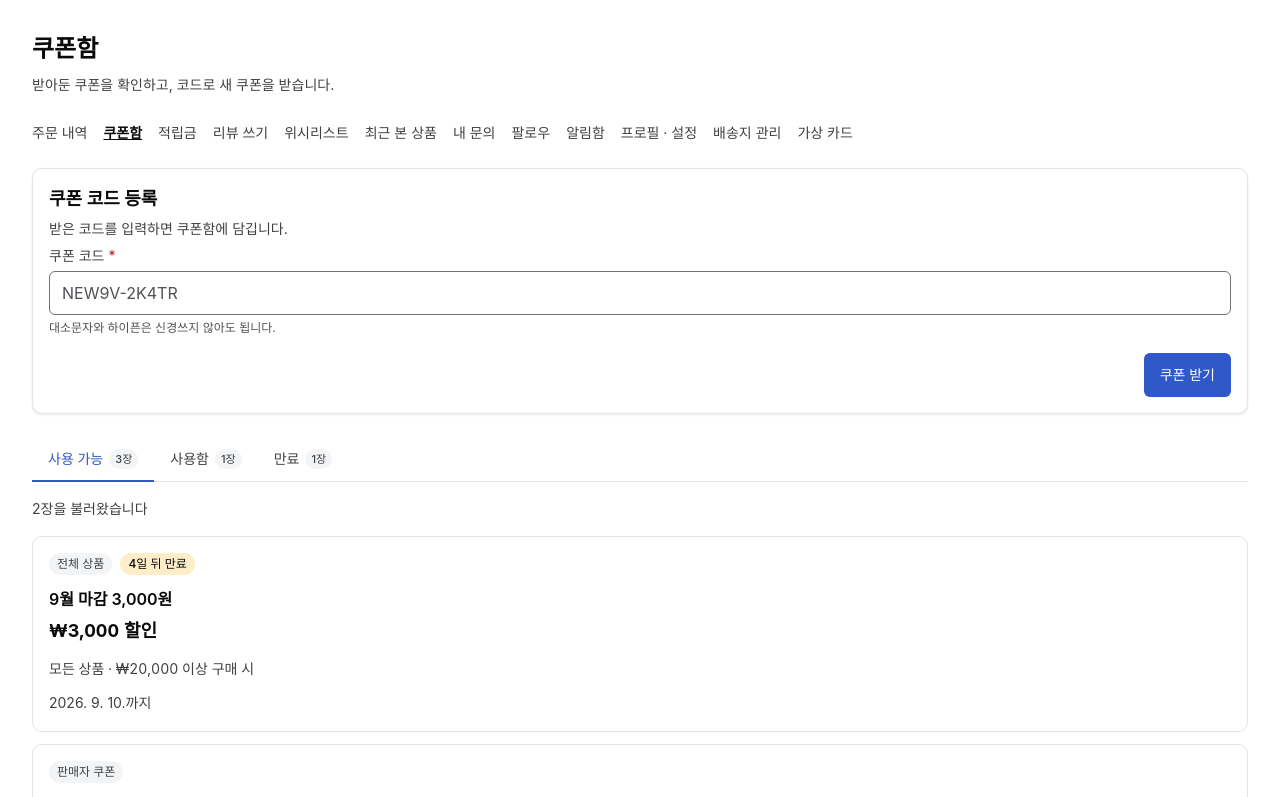
it: 탭 셋 (F1) › asks the server again for the tab that was chosen
This screenshot has width=1280, height=797.
Expected: the heading "쿠폰함" is shown, [32,34,98,63]
Click the tab "사용함 1장". click: coordinates (206, 460)
box: [154,438,258,482]
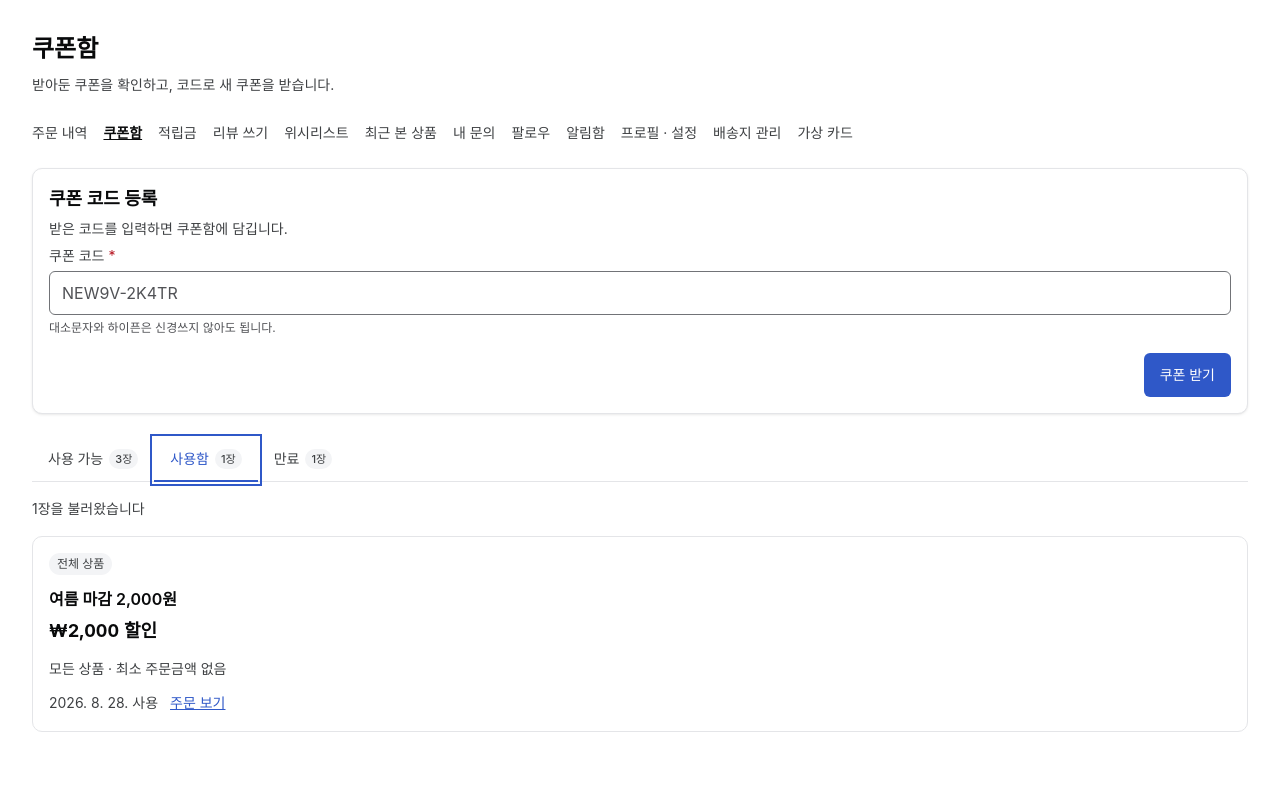
Expected: the heading "여름 마감 2,000원" is shown, [49,589,177,609]
Expected: the heading "9월 마감 3,000원" is gone
